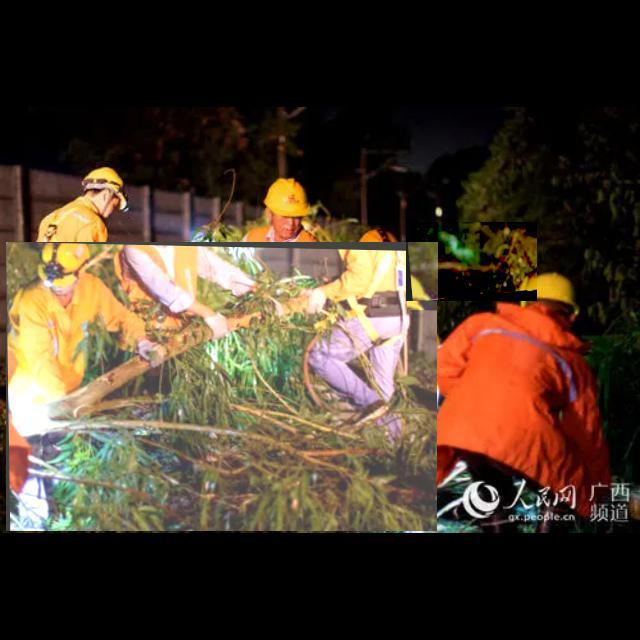fallen_tree: (6, 242, 438, 532), (406, 222, 538, 302)
